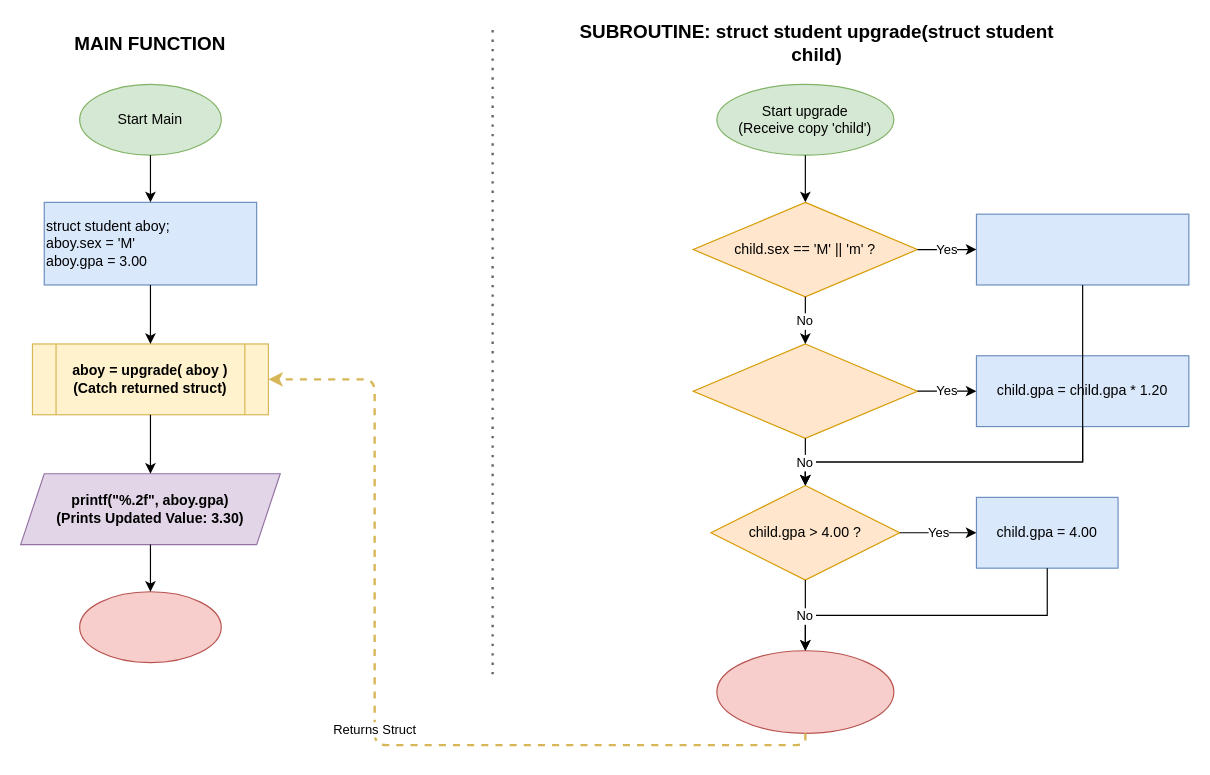
Image size: 1210x775. Some labels were removed from this diagram. The shapes that lost their labels are listed below. From the top down, each one's centre as x and y in pixels, then its label:
(1082,249): child.gpa = child.gpa * 1.10
(804,390): child.sex == 'F' || 'f' ?
(149,627): End Main / return 0
(805,691): Return child (Returns modified struct)
